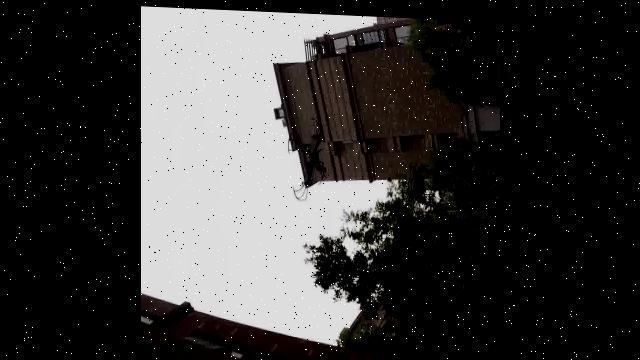drone: (281, 100, 335, 212)
